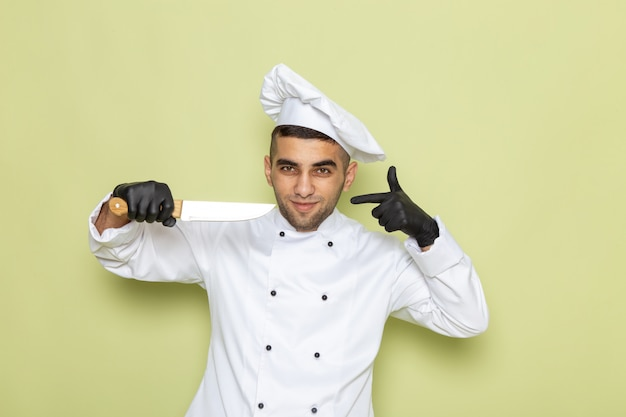knife: (171, 200, 276, 224)
